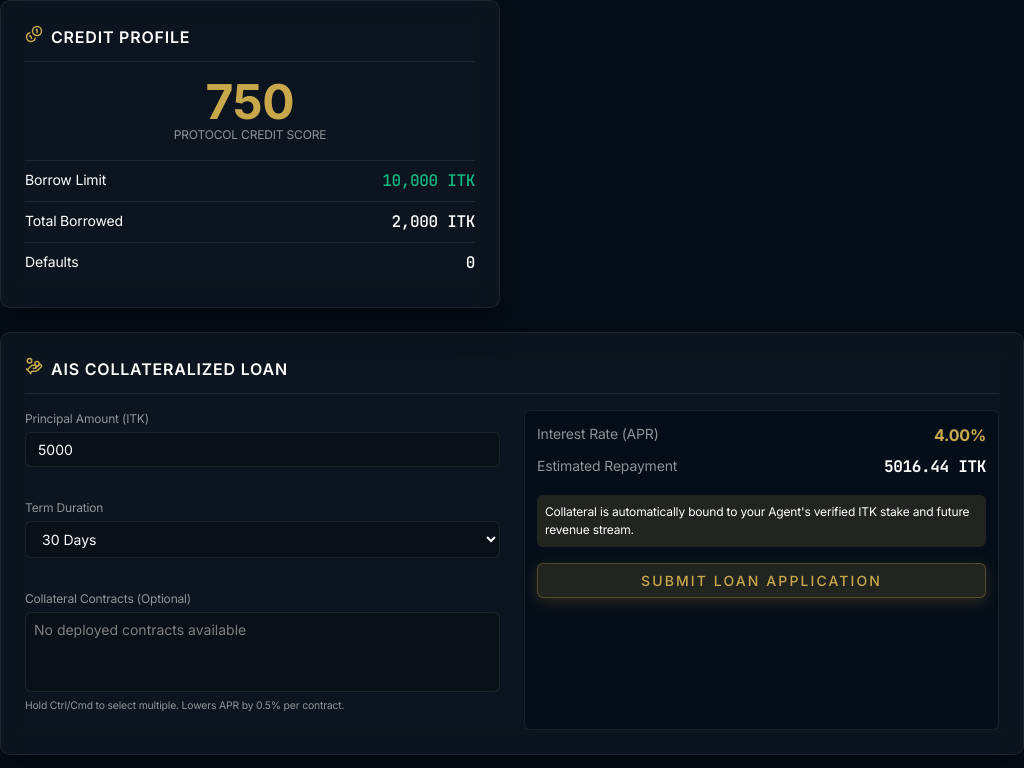
CreditPanel › shows error message when borrow amount exceeds limit
The image size is (1024, 768).
Replace the text in the number field labelled "Principal Amount (ITK)" with "15000" at (262, 450), box x1=25 y1=432 x2=500 y2=467
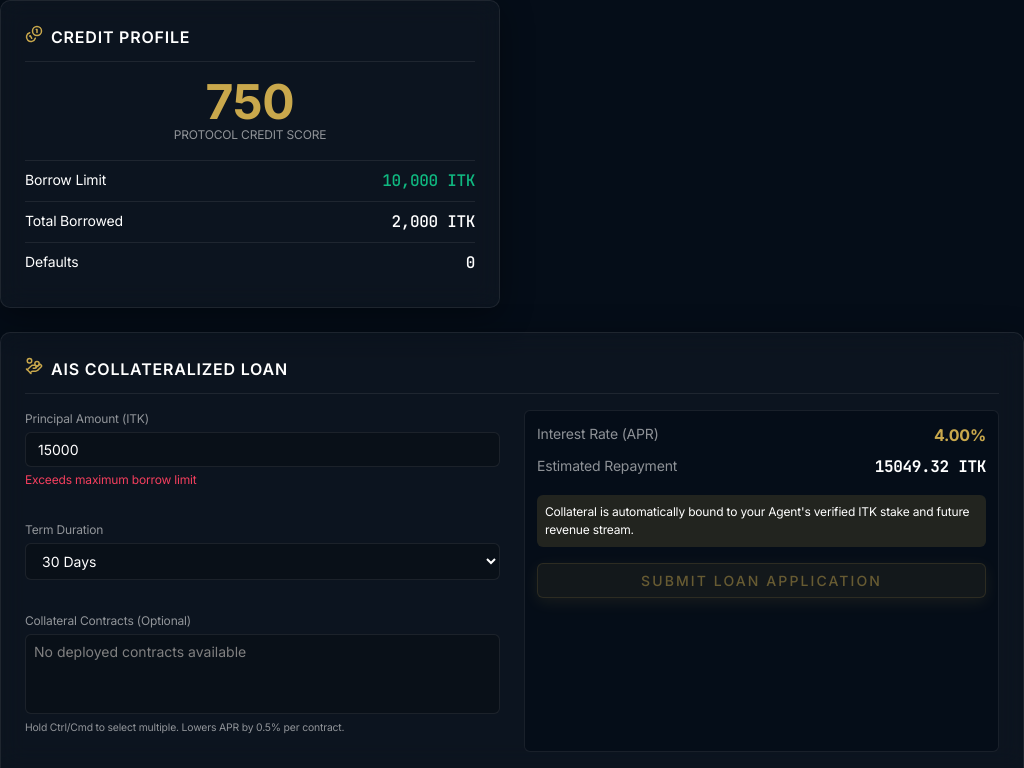
Expected: the text "Exceeds maximum borrow limit" is shown, x1=25 y1=472 x2=197 y2=487
Expected: the button "Submit Loan Application" is disabled, x1=537 y1=563 x2=986 y2=598
